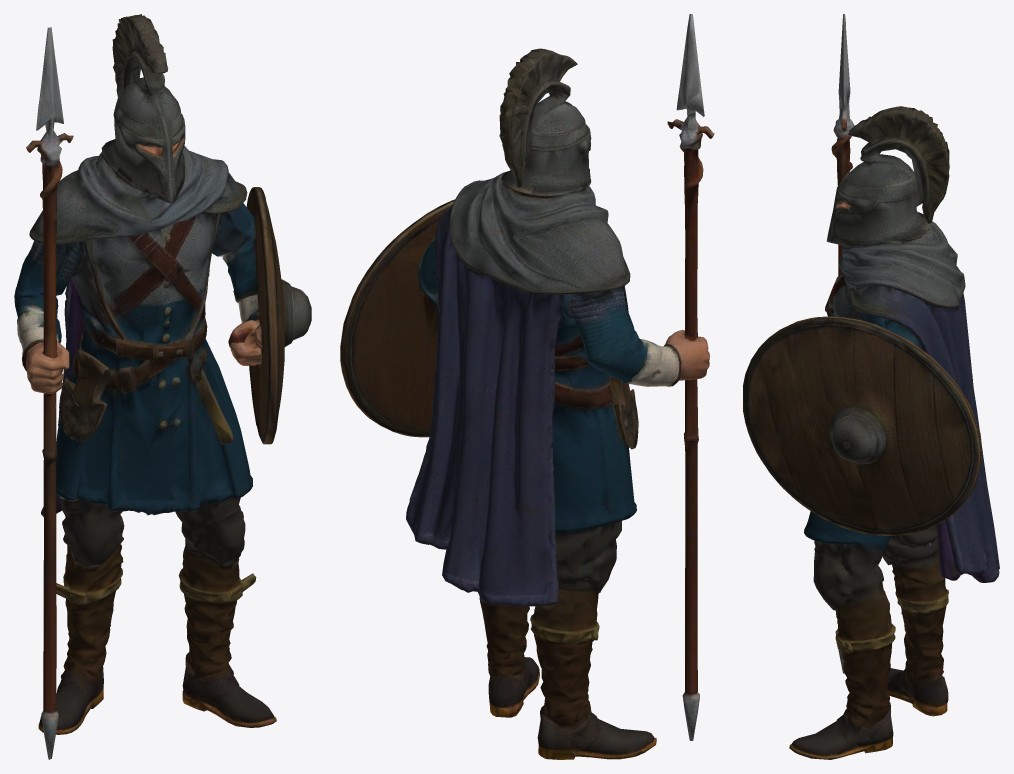
Rendered from town_guard.glb.
3 views of the same model, side by side, from view 1: azimuth 30°, elevation 25°; view 2: azimuth 150°, elevation 25°; view 3: azimuth 270°, elevation 25° (orthographic). The views are drawn at different scales.
Size of the model in its own units: 0.8205 by 1.9 by 0.6713.
1 material, 1 textured.
